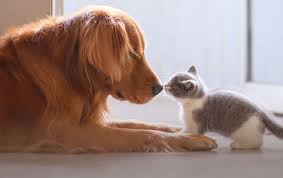cat: (162, 64, 204, 105)
dog: (61, 5, 165, 110)
